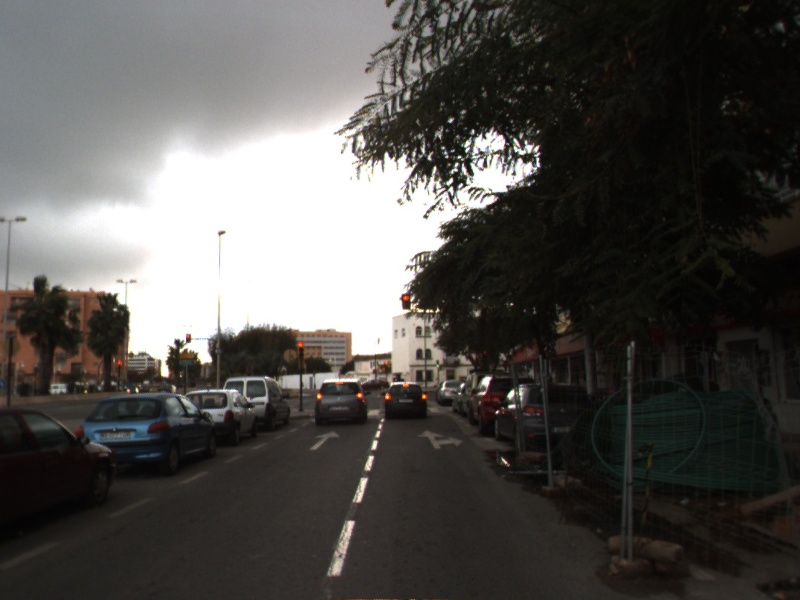STRAIGHT: (308, 429, 341, 451)
STRAIGHT_RIGHT: (416, 428, 465, 450)
